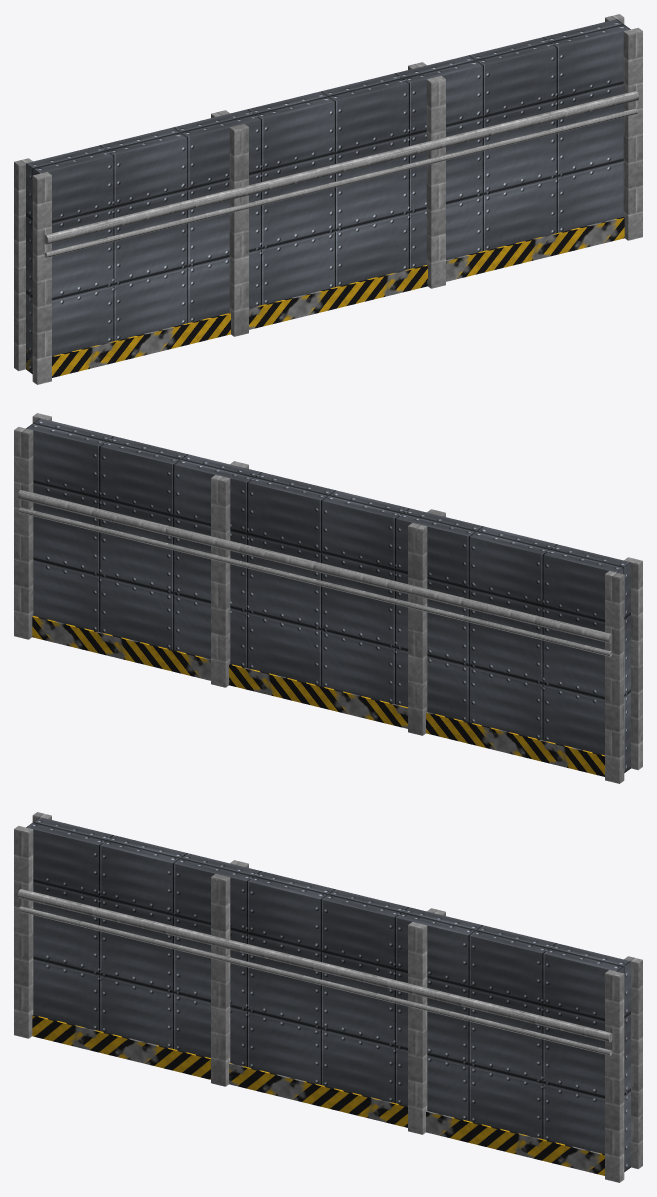
Rendered from fence_12.obj.
3 renders of one model, top to bottom at view 1: azimuth 30°, elevation 25°; view 2: azimuth 150°, elevation 25°; view 3: azimuth 330°, elevation 25°, orthographic.
Size of the model in its own units: 12.3 by 4 by 1.08.
Materials: 4 (4 with a texture image).
